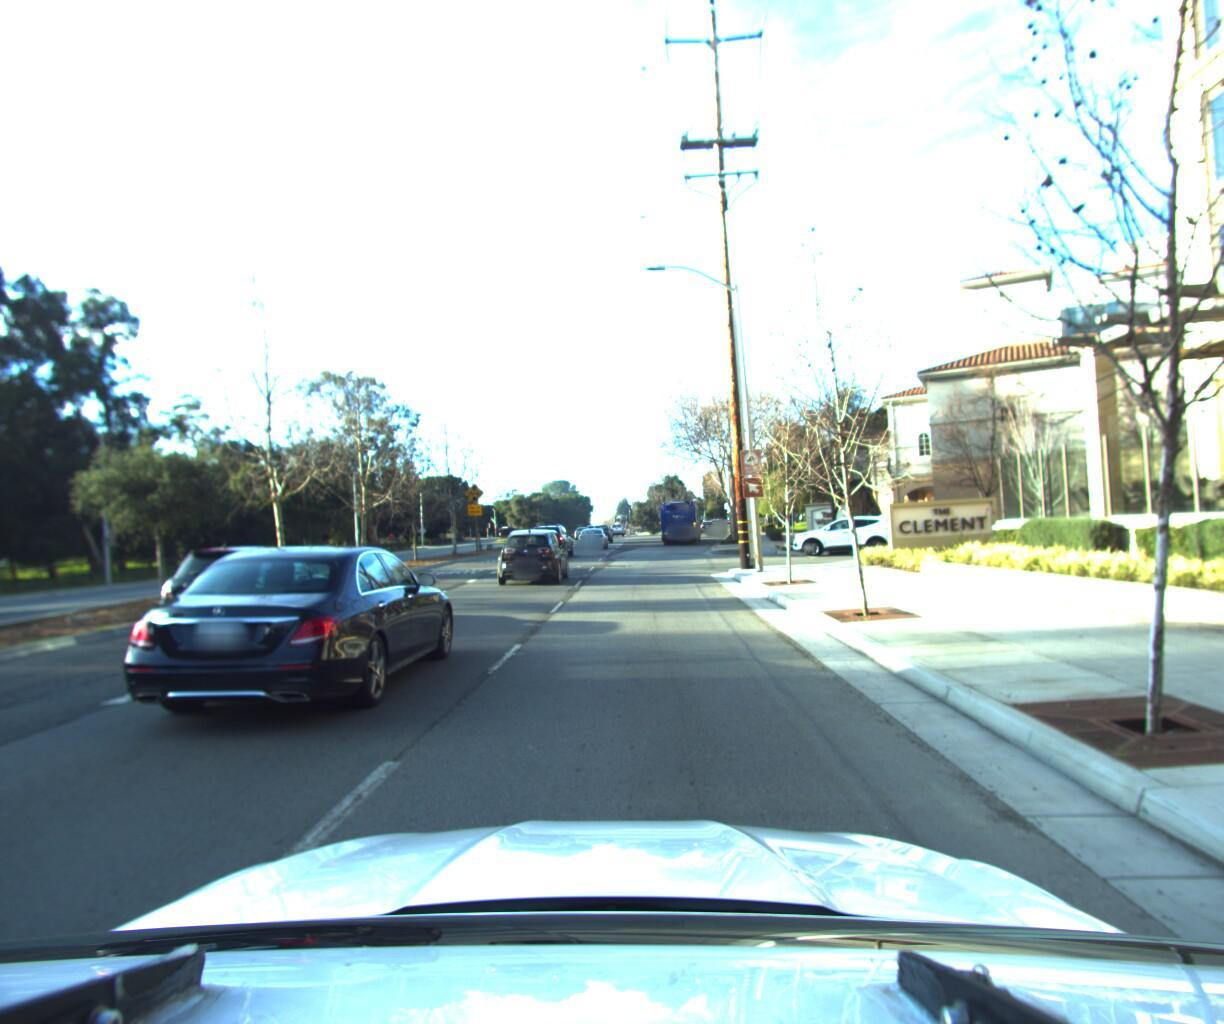bus: (657, 489, 702, 544)
car: (100, 530, 464, 740), (151, 531, 343, 637), (785, 504, 898, 553), (493, 519, 572, 583), (529, 522, 578, 559), (576, 518, 609, 547)
